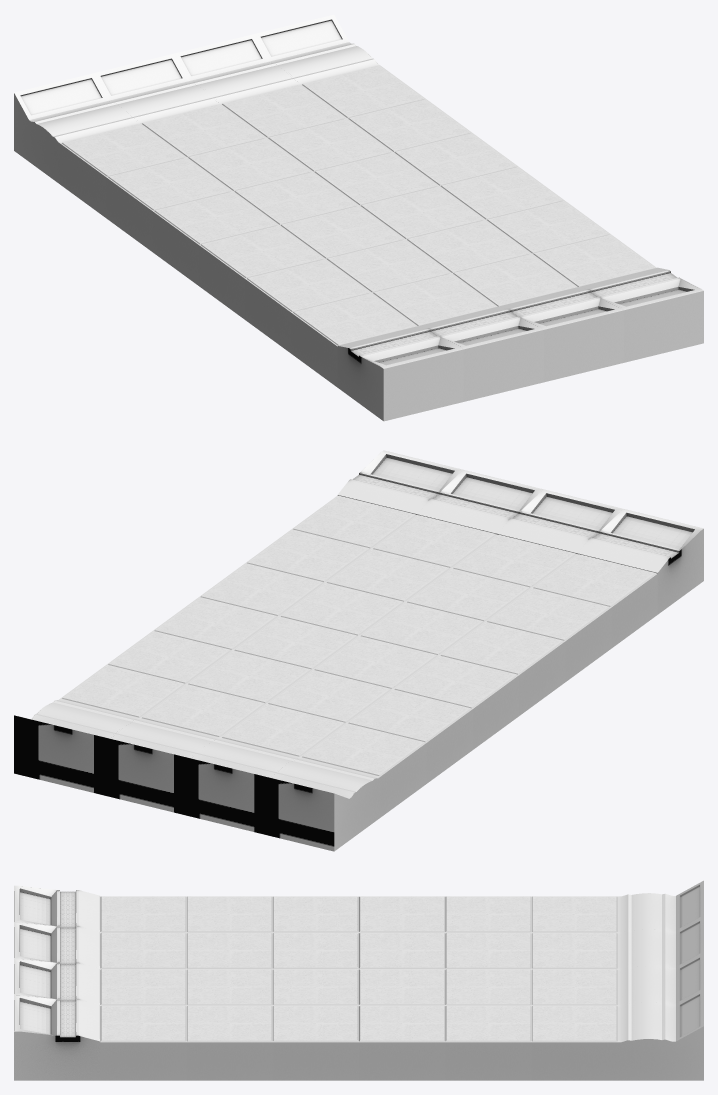
File: WallSolid_4_6.fbx
The picture shows the model from 3 angles, top to bottom: view 1: azimuth 30°, elevation 25°; view 2: azimuth 150°, elevation 25°; view 3: azimuth 270°, elevation 25°; orthographic projection. The views are drawn at different scales.
Visible parts, largest first — view 1: Wall_solid_4_6; view 2: Wall_solid_4_6; view 3: Wall_solid_4_6.
Part boxes in pixels (x1,y1,x2,y2): Wall_solid_4_6: [14, 14, 703, 421]; Wall_solid_4_6: [14, 450, 703, 851]; Wall_solid_4_6: [14, 880, 703, 1080].
Size of the model in its own units: 4 by 0.6947 by 8.
